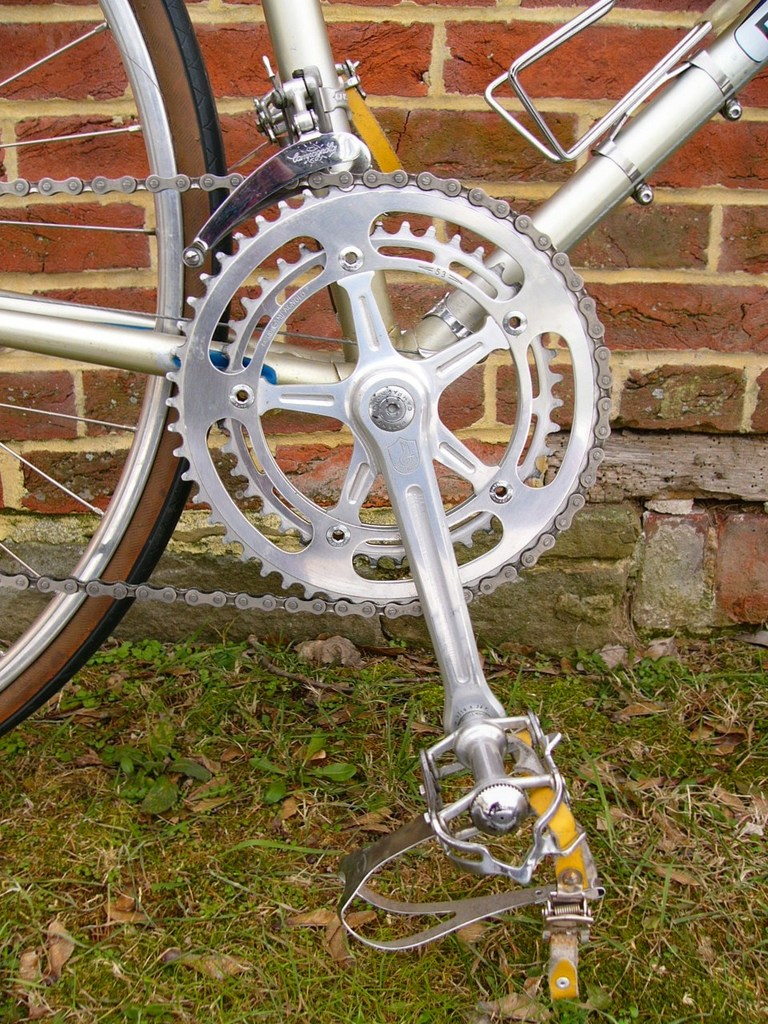Bicycle: (0, 0, 767, 993)
